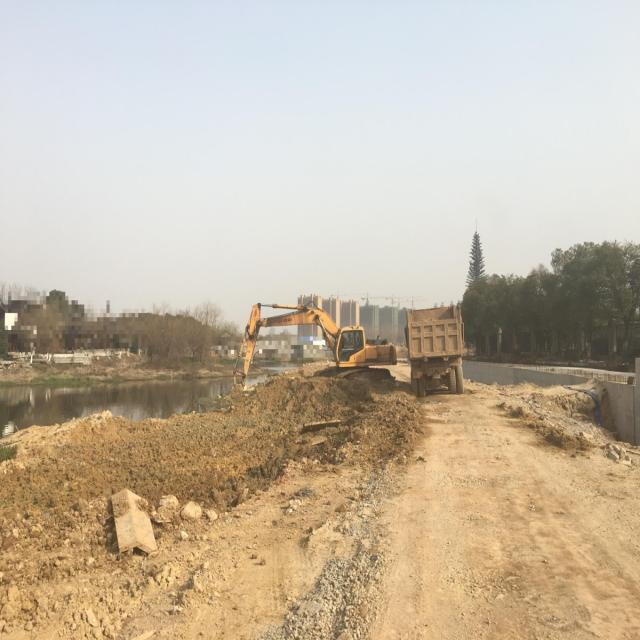excavator: (229, 300, 397, 407)
truck: (404, 301, 466, 397)
